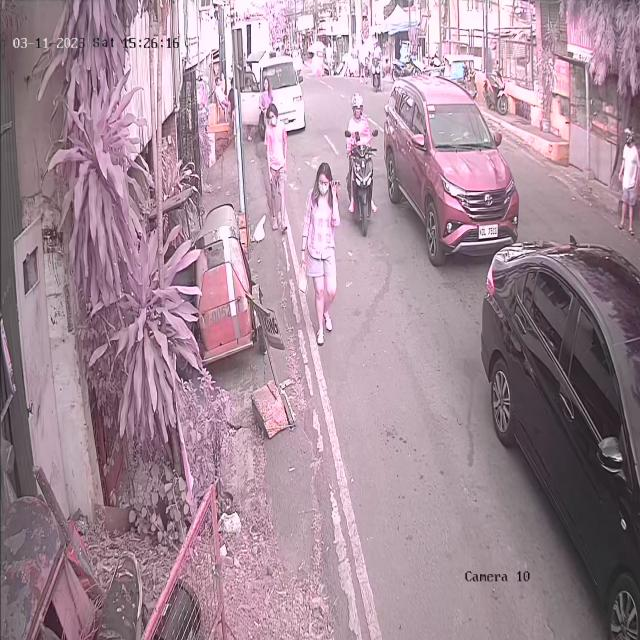garbage_dumping: (249, 216, 268, 247), (298, 265, 308, 302)
